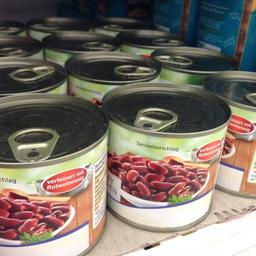beans: (104, 80, 229, 226), (0, 92, 104, 254)
